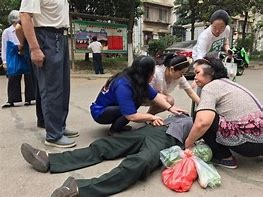falling: (12, 101, 216, 197)
